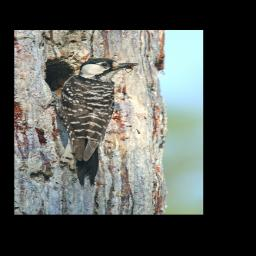Woodpecker: (39, 58, 140, 190)
